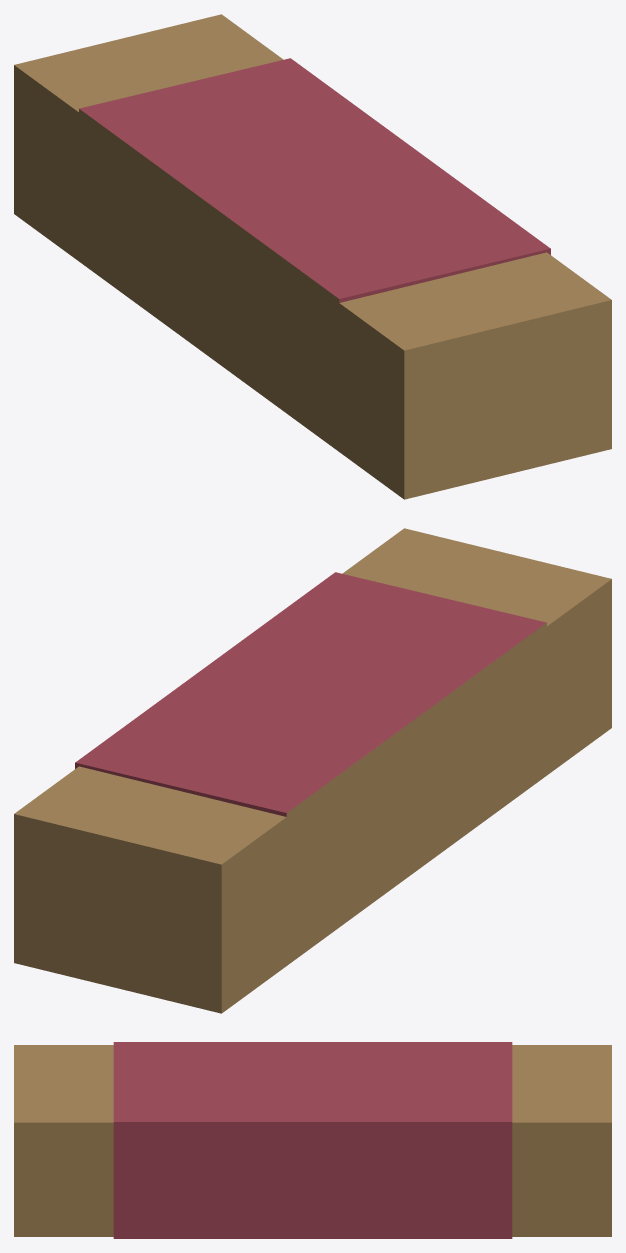
Rendered from step.fbx.
The picture shows the model from 3 angles, top to bottom: view 1: azimuth 30°, elevation 25°; view 2: azimuth 150°, elevation 25°; view 3: azimuth 270°, elevation 25°; orthographic projection. The views are drawn at different scales.
Visible parts, largest first — view 1: Cube; view 2: Cube; view 3: Cube.
Part boxes in pixels (left/top/right/bottom): Cube: left=14, top=14, right=611, bottom=499; Cube: left=14, top=528, right=611, bottom=1013; Cube: left=14, top=1042, right=611, bottom=1238.
Size of the model in its own units: 299 by 205 by 949.
